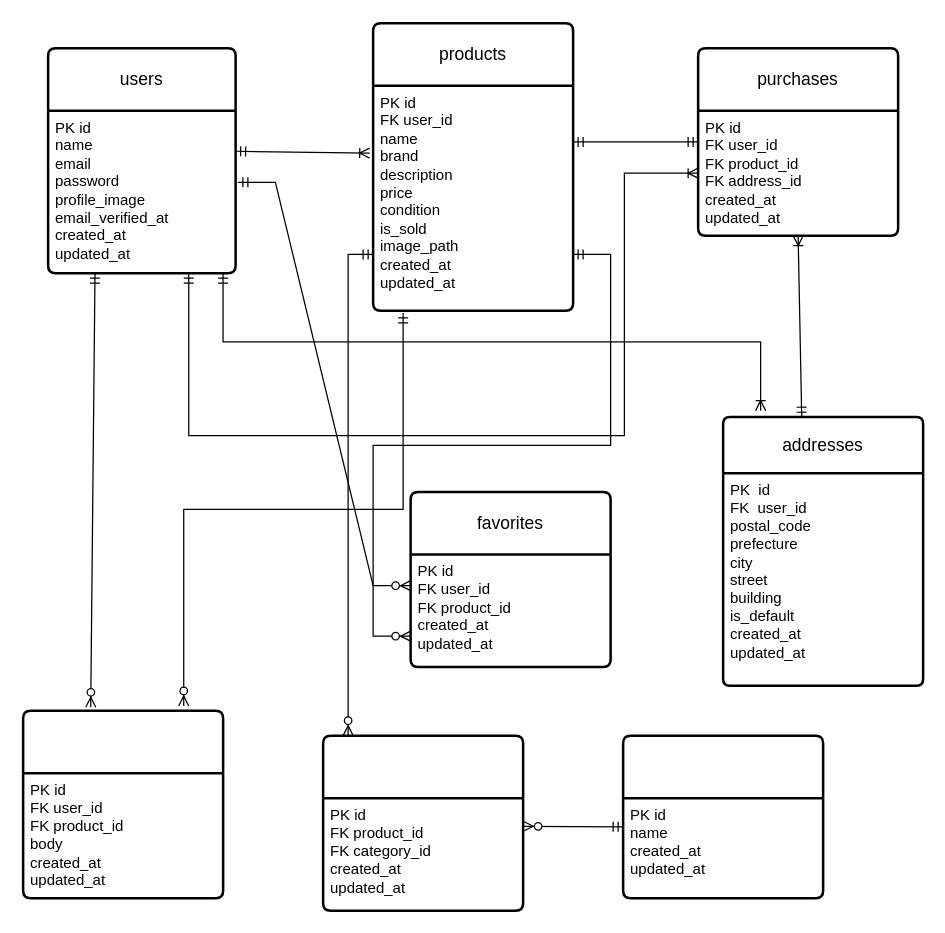
Image size: 945x933. Some labels were removed from this diagram. The shapes that lost their labels are listed below. From the top down, each one's box as (x1, y1, x2, y2) in pixels, then its label:
(21, 709, 224, 899): comments
(321, 734, 524, 911): category_product
(621, 734, 824, 899): categories
